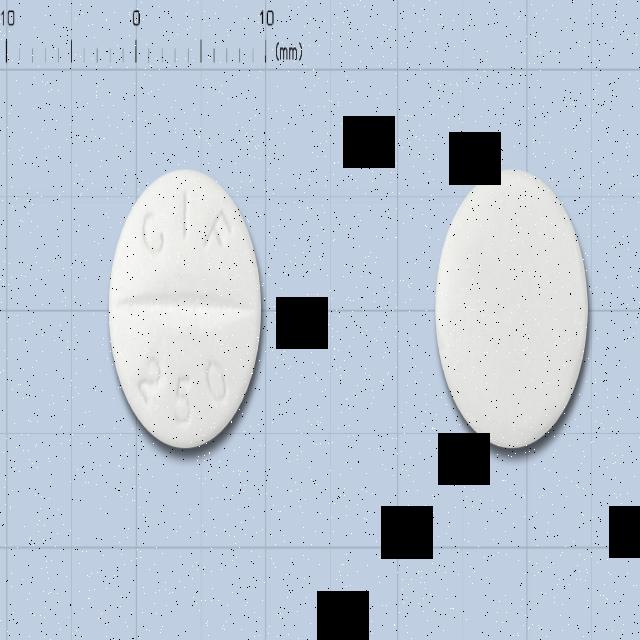Sinil Ciprofloxacin HCl Tab: (106, 165, 262, 451)
